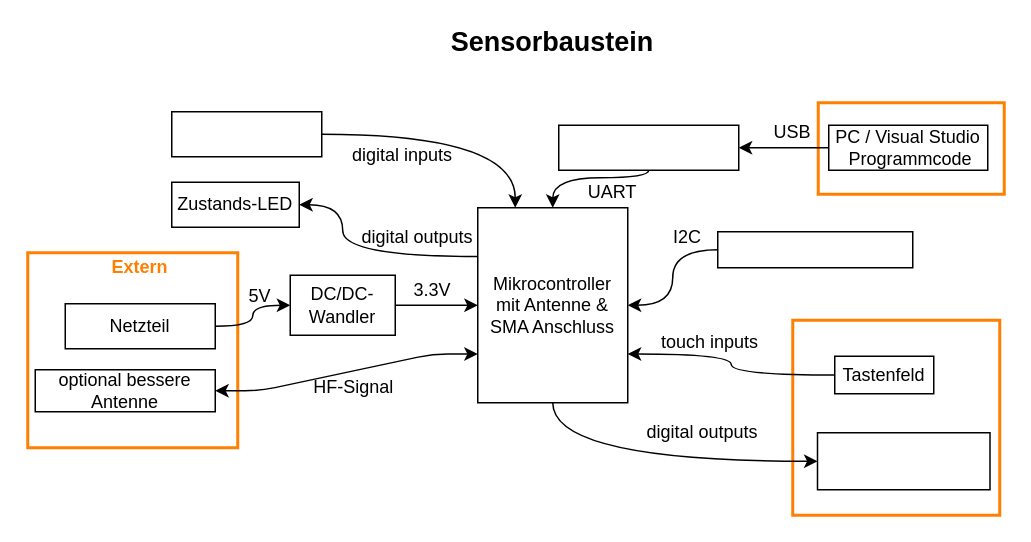
Some shapes in this 1031 by 542 pixel diagram are drawn without their labels. The centre of each missing label's shape, as x and y in pixels:
"Debugging-Taster" goes at pixel 246 133.
"LEDs zu den jeweiligen Tasten" goes at pixel 903 460.
"Temperatursensor" goes at pixel 814 249.
"USB/UART-Wandler" goes at pixel 648 147.
